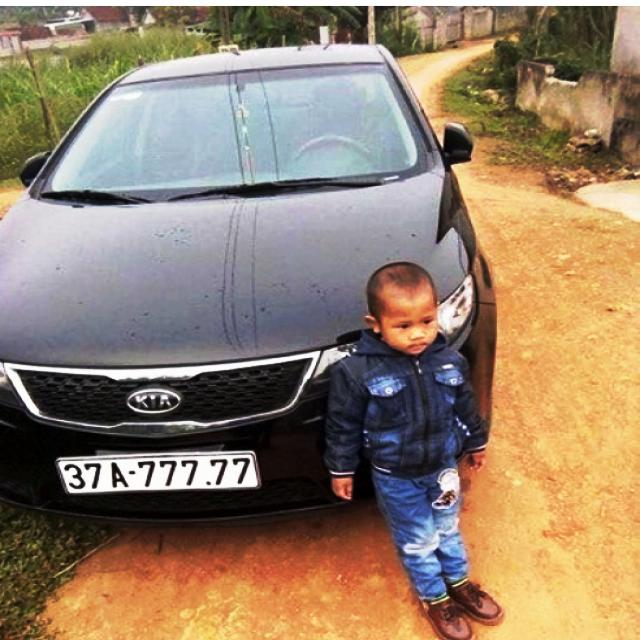license_plate: (55, 453, 262, 494)
